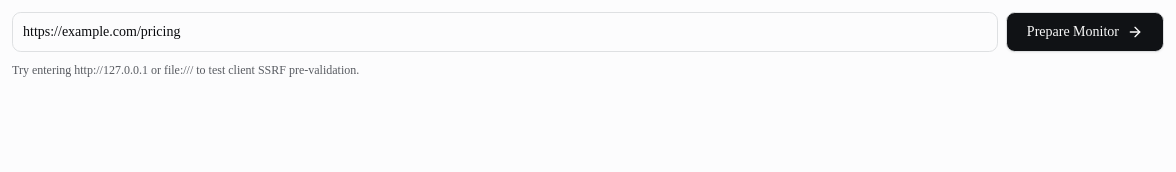
Test case: UrlQuickstart › blocks localhost SSRF targets before navigation
The width and height of the screenshot is (1176, 172).
Replace the text in the field named "Website URL to monitor" with "http://127.0.0.1:8080/admin": x=505, y=32 x1=12 y1=12 x2=998 y2=52
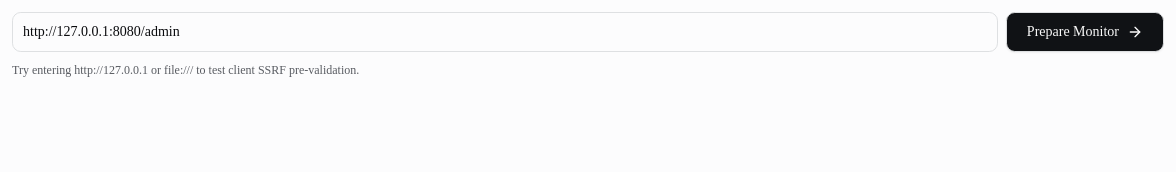
Click the button "Prepare Monitor": x=1085, y=32 x1=1006 y1=12 x2=1164 y2=52
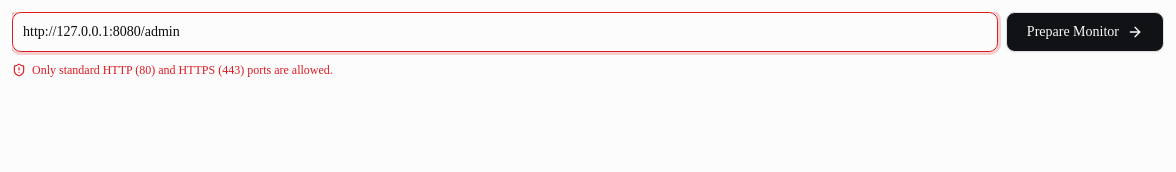
Expected: the message "Only standard HTTP (80) and HTTPS (443) ports are allowed." is shown, x1=12 y1=63 x2=333 y2=77
